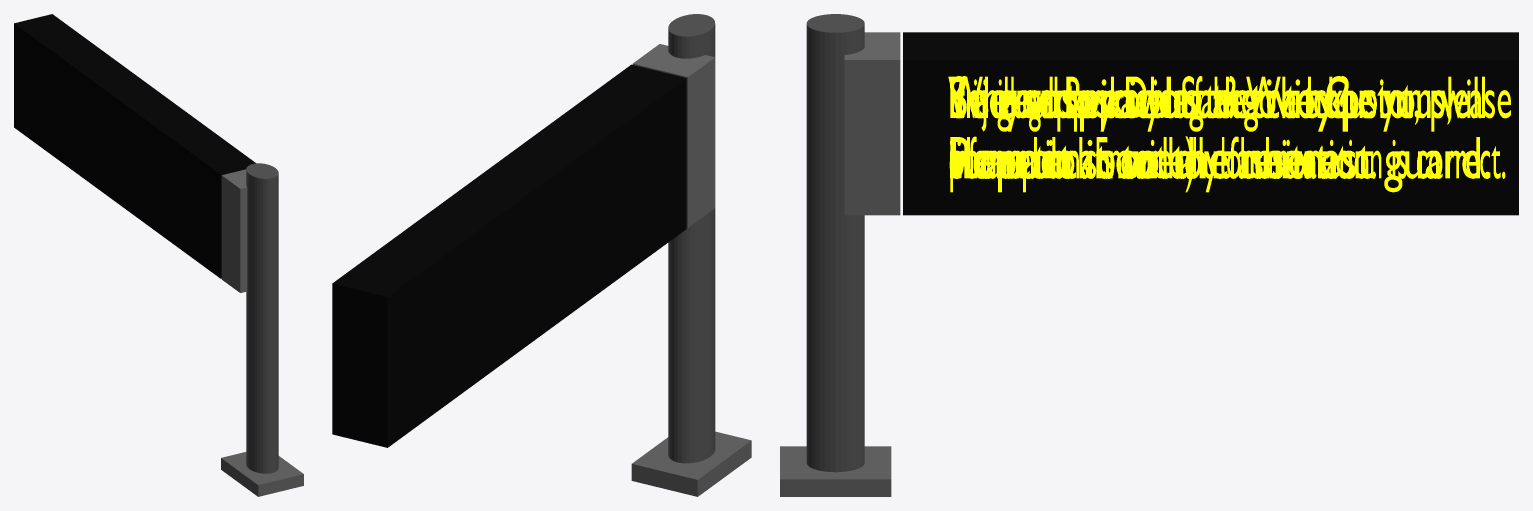
File: dot_matrix_sign_1.fbx
3 views of the same model, side by side, from view 1: azimuth 30°, elevation 25°; view 2: azimuth 150°, elevation 25°; view 3: azimuth 270°, elevation 25° (orthographic). The views are drawn at different scales.
Visible parts, largest first — view 1: Cube, Cylinder, Cube.002, Cube.001; view 2: Cube, Cylinder, Cube.002, Cube.001; view 3: Cube, Cylinder, Text, Cube.002, Text.001, Text.003, Text.002, Text.004, Cube.001.
Boxes of the visible parts, box(x1,y1,x2,y2) form: Cube: box(14, 14, 255, 278); Cylinder: box(246, 163, 278, 473); Cube.002: box(221, 169, 247, 292); Cube.001: box(221, 452, 303, 496); Cube: box(332, 64, 686, 447); Cylinder: box(668, 14, 715, 463); Cube.002: box(632, 44, 715, 227); Cube.001: box(631, 431, 751, 496); Cube: box(903, 32, 1518, 215); Cylinder: box(806, 14, 864, 472); Text: box(950, 76, 1489, 192); Cube.002: box(844, 32, 900, 215); Text.001: box(950, 76, 1505, 178); Text.003: box(948, 76, 1510, 192); Text.002: box(949, 76, 1484, 192); Text.004: box(950, 76, 1450, 192); Cube.001: box(780, 446, 891, 496).
Size of the model in its own units: 8.1 by 52 by 76.18.
